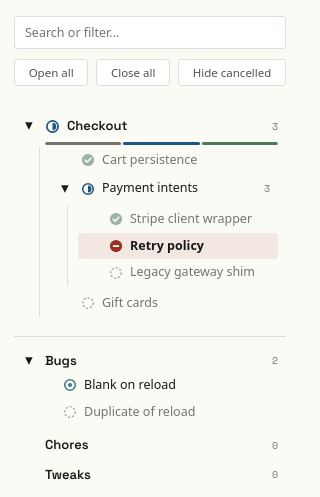
Test: Navigator: status glyph tooltips › shows a glyph's status label on hover, and hides it on leave
The image size is (320, 497).
Hover over the picture named "Active" next to "Checkout" at (52, 126), box [45, 118, 60, 134]
Wait 200 ms
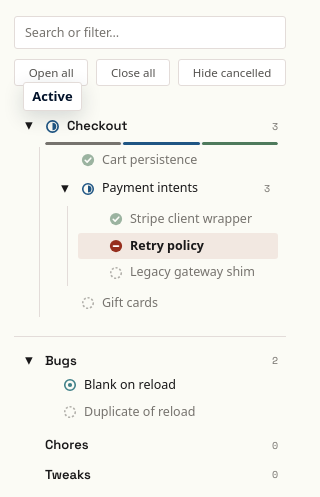
Result: the tooltip reads "Active" at [32, 87, 73, 105]
Move the pointer off the picture named "Active" next to "Checkout", box [45, 118, 60, 134]
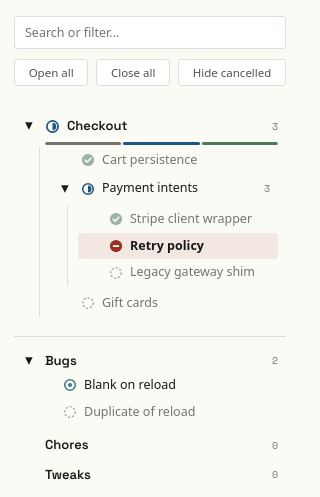
Result: the tooltip "Active" is gone
